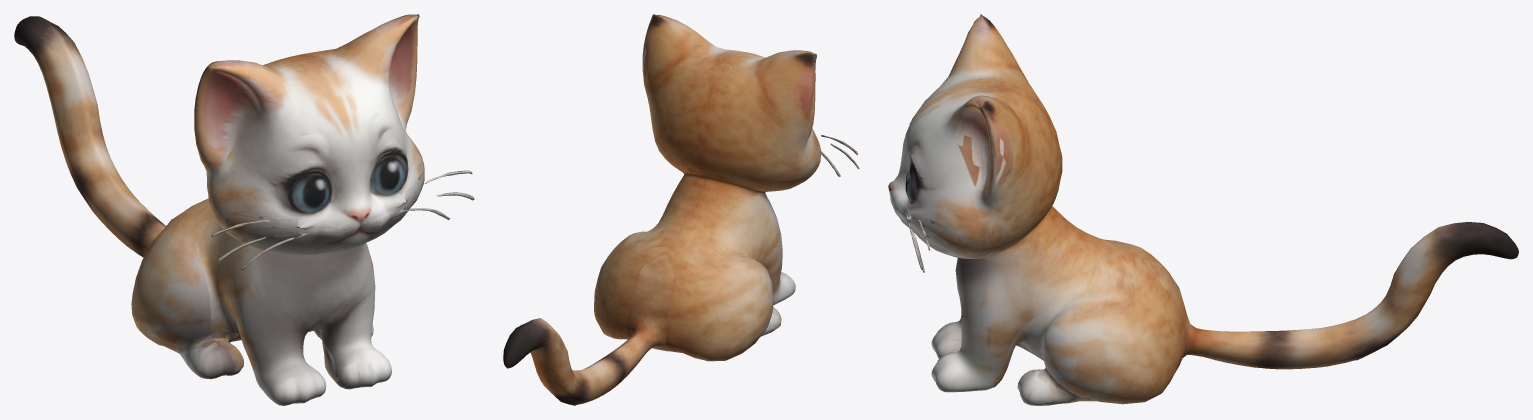
The model's file is cat.glb.
3 views of the same model, side by side, from view 1: azimuth 30°, elevation 25°; view 2: azimuth 150°, elevation 25°; view 3: azimuth 270°, elevation 25° (orthographic). The views are drawn at different scales.
Visible parts, largest first — view 1: Mesh0; view 2: Mesh0; view 3: Mesh0.
Boxes of the visible parts, <box> form: Mesh0: <box>14,14,474,405</box>; Mesh0: <box>503,14,859,405</box>; Mesh0: <box>888,14,1518,405</box>.
Bounding box in the file's own units: 0.8683 × 1.08 × 2.
1 material, 1 textured.
